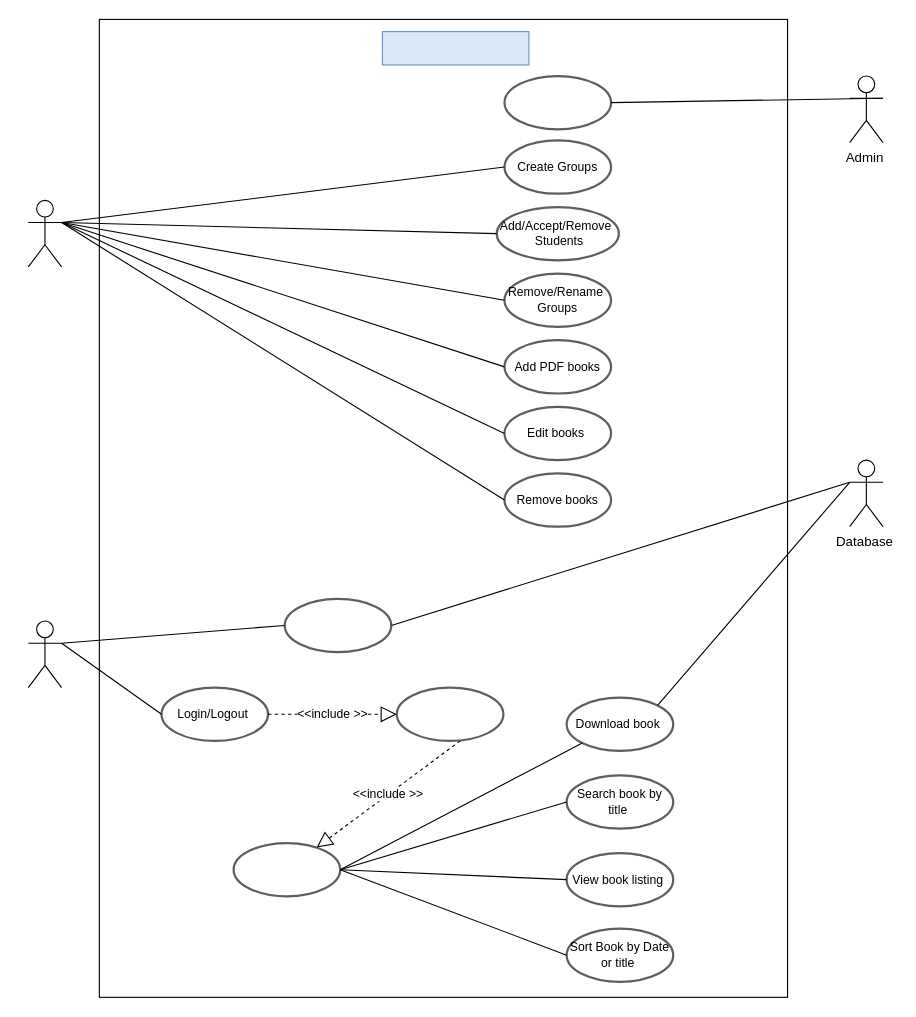
Some shapes in this 916 by 1017 pixel diagram are drawn without their labels. The centre of each missing label's shape, as x and y in pixels:
"Check Identity" belongs at point 449,713.
"GIC E-Library System" belongs at point 455,48.
"Manage User Account" belongs at point 557,102.
"Register/Update Account" belongs at point 337,625.
"Student" belongs at point 44,654.
"Subscription" belongs at point 286,869.
"Teacher" belongs at point 44,233.
